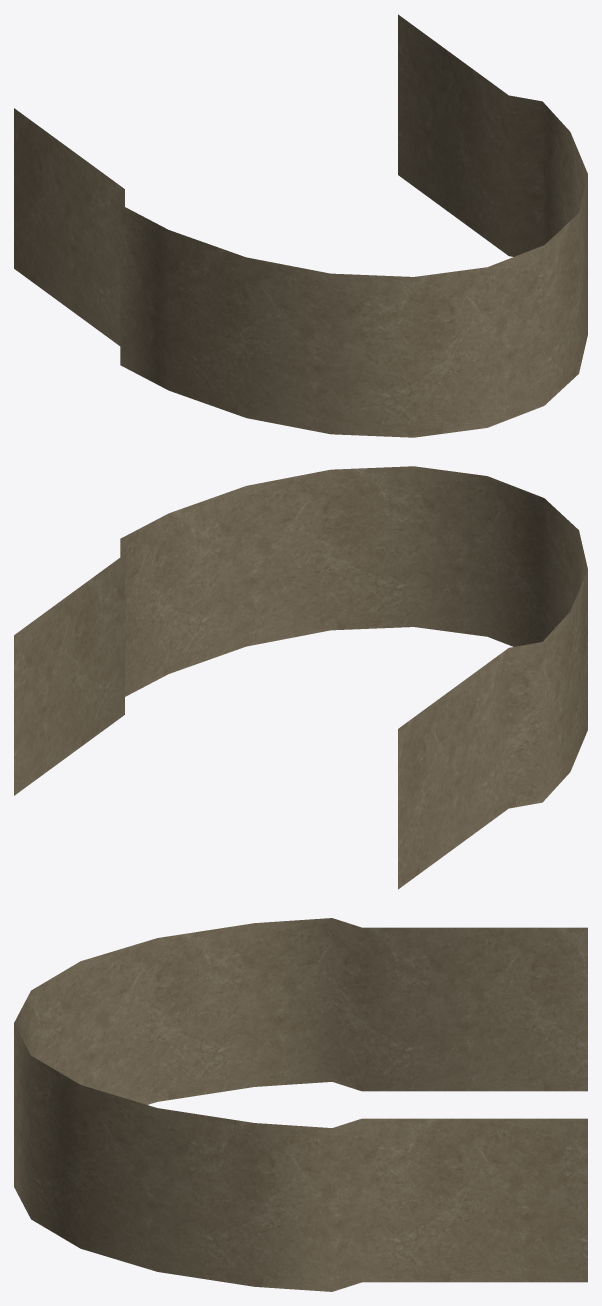
File: Wall01_Maincity_001.FBX
The picture shows the model from 3 angles, top to bottom: view 1: azimuth 30°, elevation 25°; view 2: azimuth 150°, elevation 25°; view 3: azimuth 270°, elevation 25°; orthographic projection.
Visible parts, largest first — view 1: Wall01_Maincity_001; view 2: Wall01_Maincity_001; view 3: Wall01_Maincity_001.
Part boxes in pixels (box(x1,y1,x2,y2)): Wall01_Maincity_001: box(14, 14, 587, 437); Wall01_Maincity_001: box(14, 466, 587, 889); Wall01_Maincity_001: box(14, 918, 587, 1291).
Size of the model in its own units: 2200 by 800 by 2540.
1 material, 1 textured.
